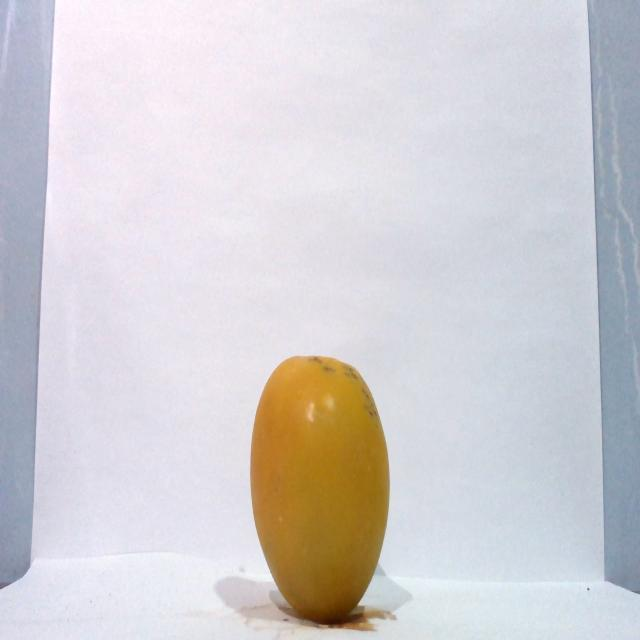Red: (248, 353, 391, 623)
